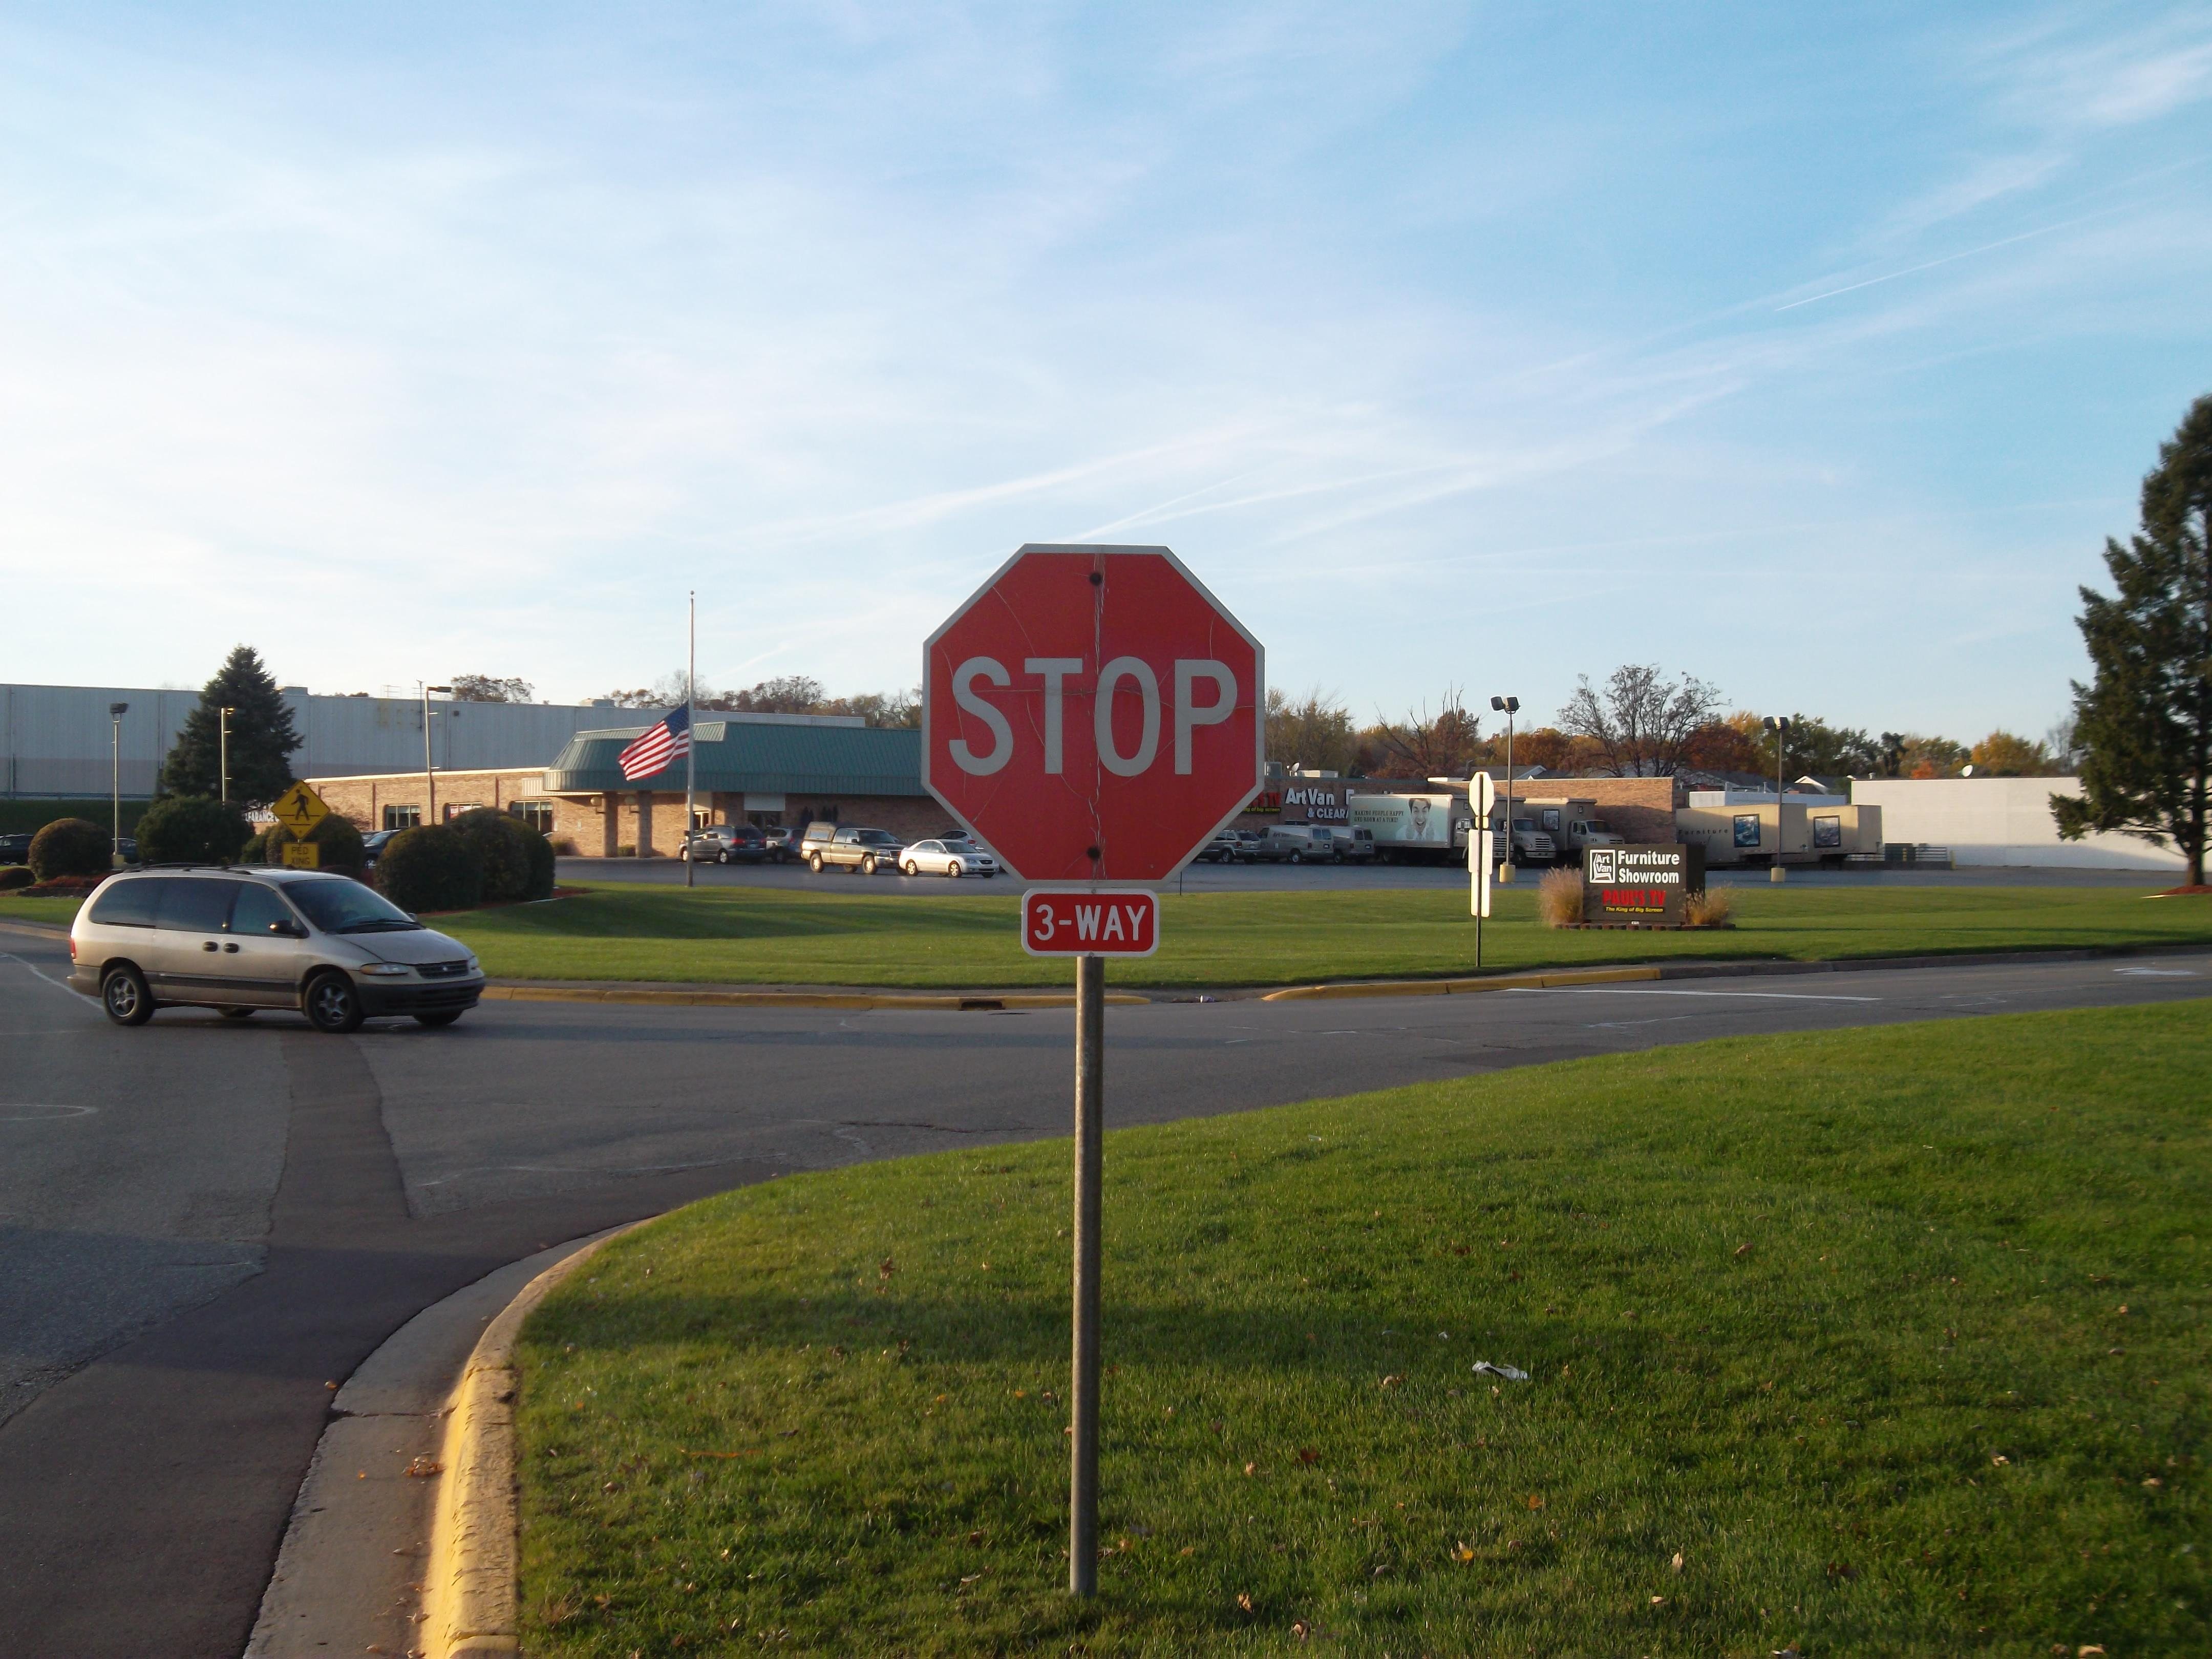stop: (892, 528, 1285, 906)
